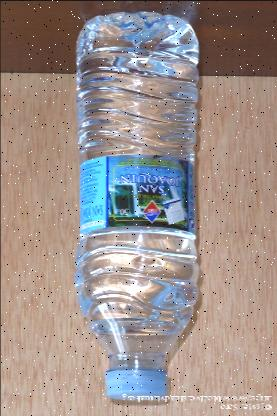Plastic Bottle: (66, 6, 210, 404)
